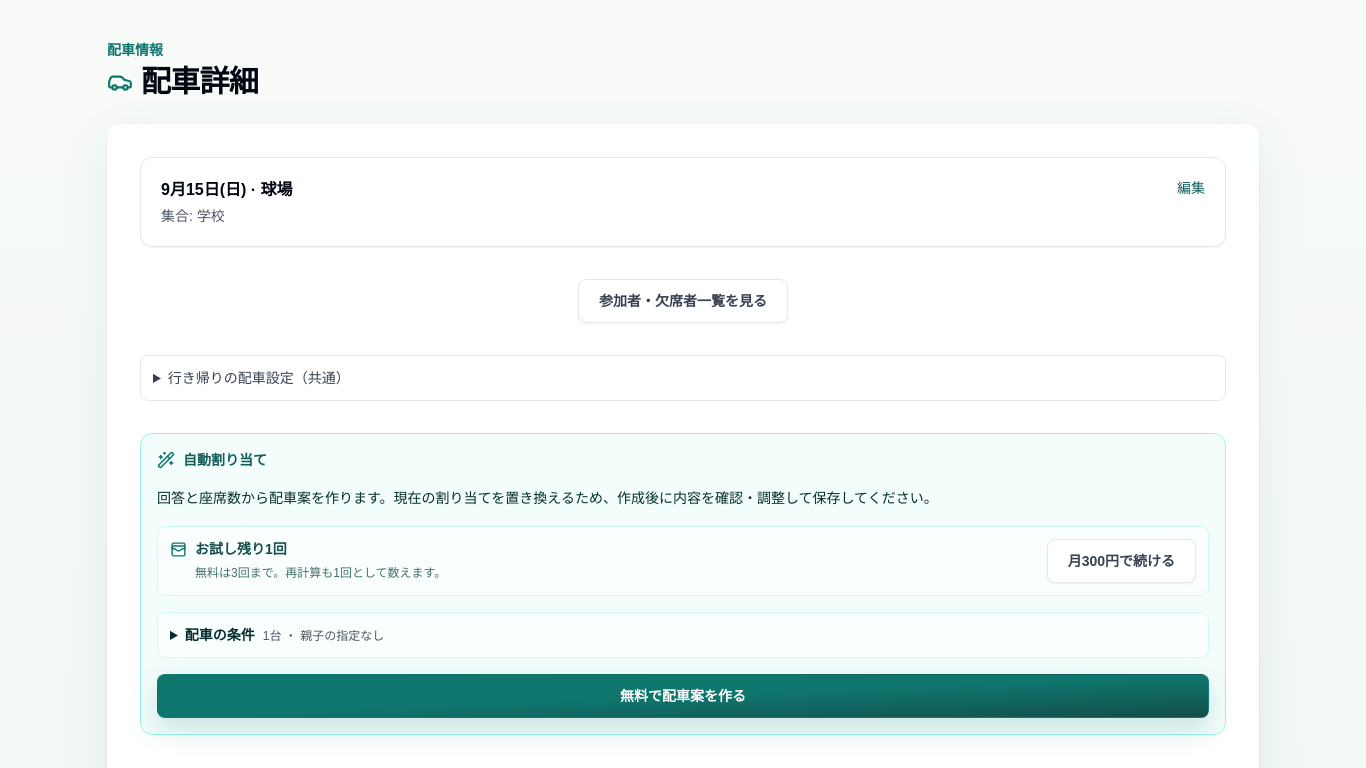
APIの402で残回数を最新化し、編集中の入力を維持する
Replace the text in the field named "行き先" with "編集中の球場". click: (683, 202)
box: x1=140 y1=157 x2=1226 y2=247
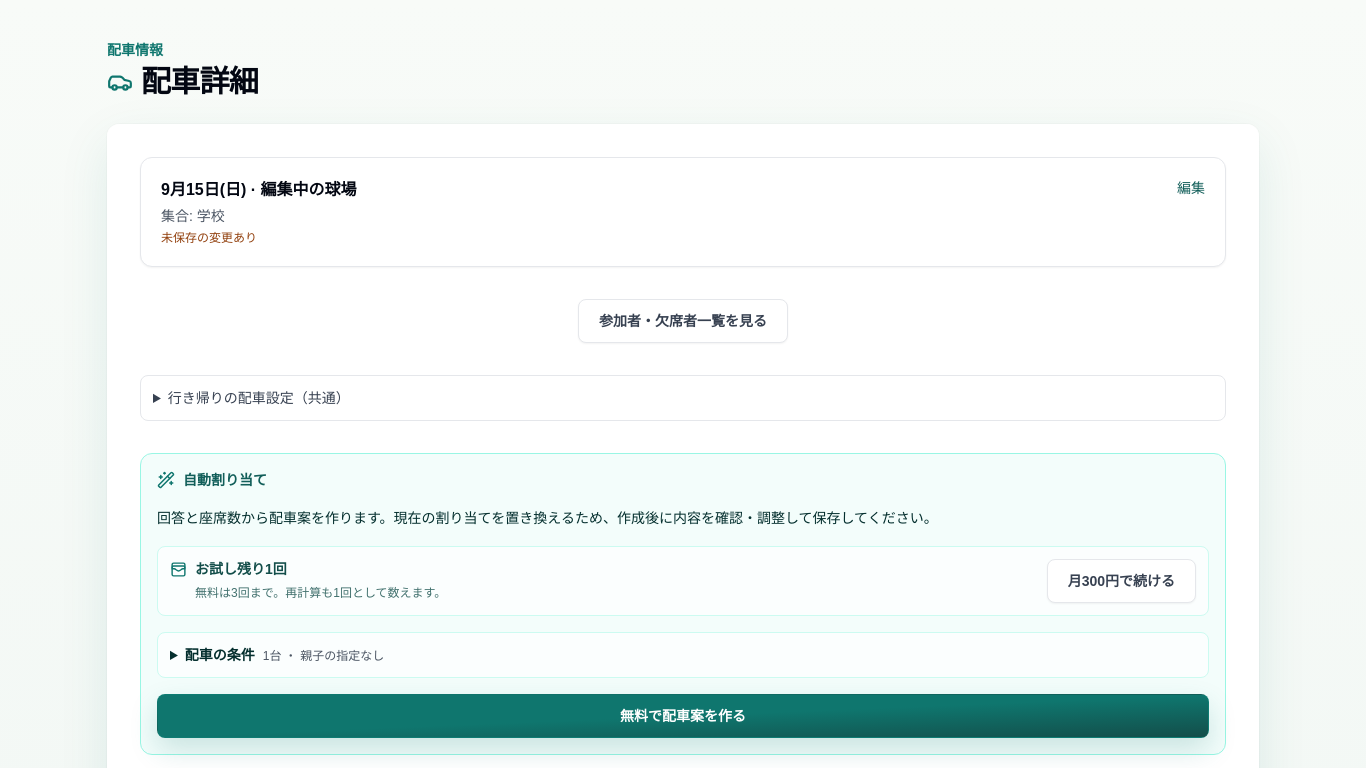
Click the button "無料で配車案を作る". click: (683, 716)
box: x1=157 y1=694 x2=1209 y2=738
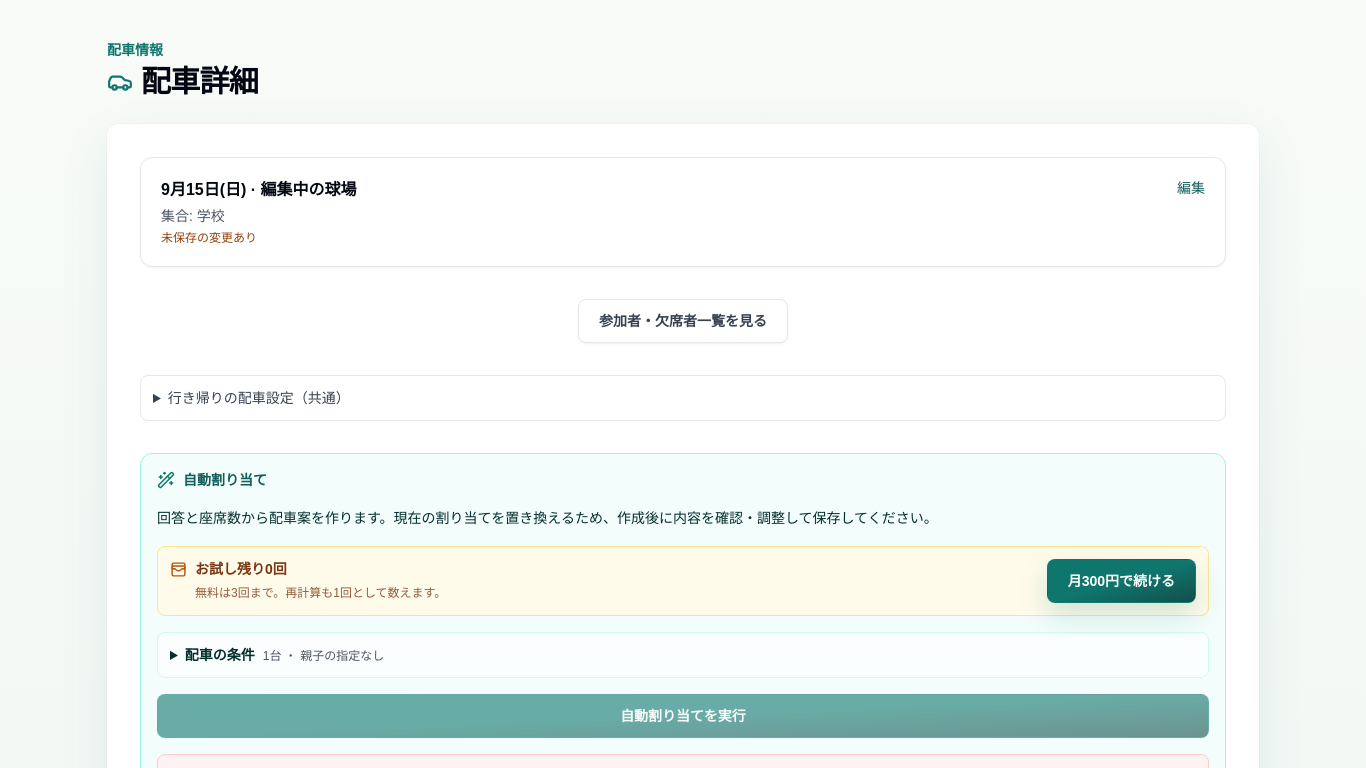
Expected: the element named "行き先" holds "編集中の球場", x1=140 y1=157 x2=1226 y2=267
Expected: the text "お試し残り0回" is shown, x1=195 y1=561 x2=287 y2=577
Expected: the button "自動割り当てを実行" is disabled, x1=157 y1=694 x2=1209 y2=738
